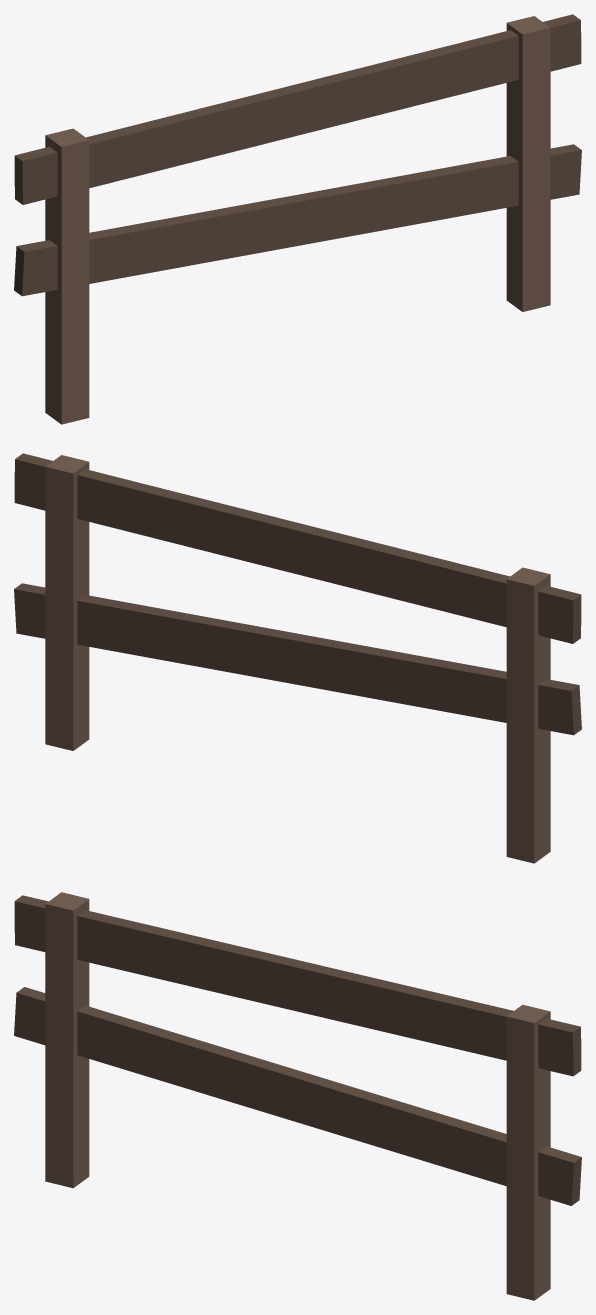
3 renders of one model, top to bottom at view 1: azimuth 30°, elevation 25°; view 2: azimuth 150°, elevation 25°; view 3: azimuth 330°, elevation 25°, orthographic.
Parts seen in each view (by area): view 1: Geode; view 2: Geode; view 3: Geode.
Part boxes in pixels (x1=…): Geode: x1=14, y1=14, x2=581, y2=424; Geode: x1=14, y1=453, x2=581, y2=863; Geode: x1=14, y1=892, x2=581, y2=1300.
Size of the model in its own units: 2.01 by 0.95 by 0.1.
Materials: 1 (1 with a texture image).
